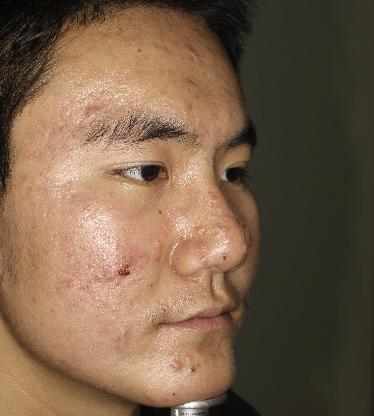Blackheads: (149, 201, 171, 219), (219, 249, 233, 265)
Nodules: (79, 98, 101, 122)
Papules: (175, 40, 209, 64), (187, 357, 204, 380)
pustules: (107, 253, 142, 283), (165, 356, 187, 375)
